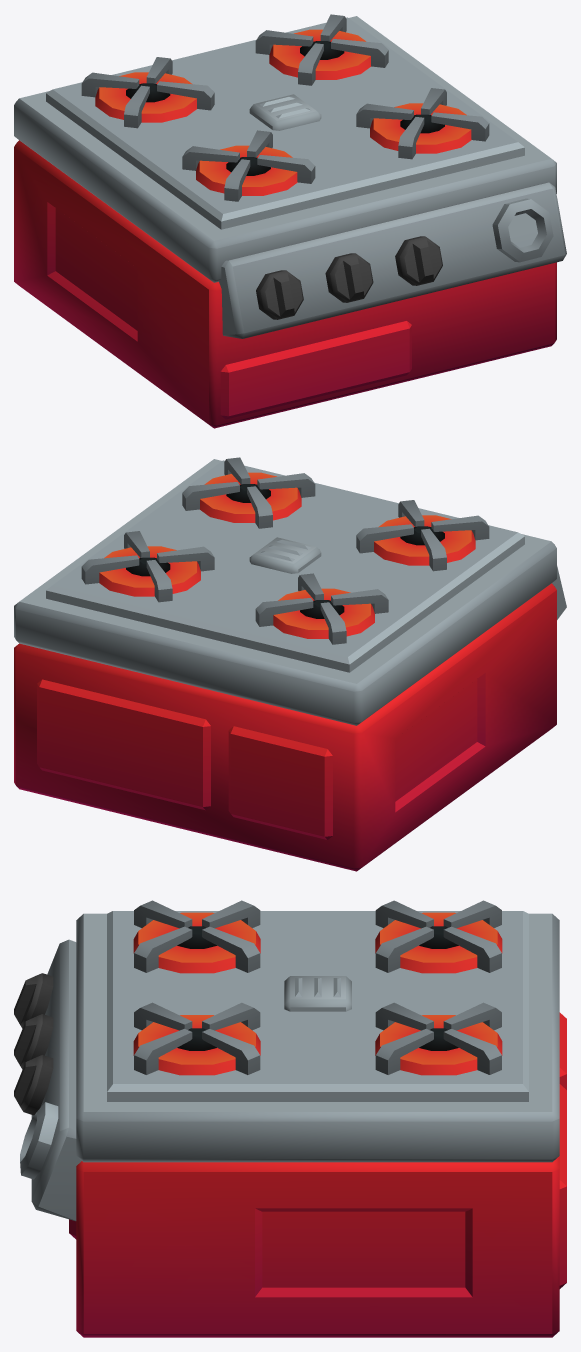
The model's file is kay-stove_multi.glb.
3 views of the same model, one above another, from view 1: azimuth 30°, elevation 25°; view 2: azimuth 150°, elevation 25°; view 3: azimuth 270°, elevation 25° (orthographic). The views are drawn at different scales.
Visible parts, largest first — view 1: stove_multi; view 2: stove_multi; view 3: stove_multi.
Part boxes in pixels (x1,y1,x2,y2): stove_multi: (14,14,566,428); stove_multi: (14,457,566,871); stove_multi: (14,900,566,1337).
Bounding box in the file's own units: 0.8742 × 0.5245 × 1.
1 material, 1 textured.
